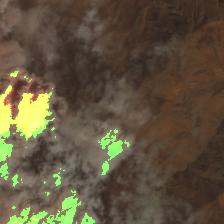landslides: (29, 1, 59, 20), (26, 19, 53, 32), (52, 57, 72, 70), (19, 12, 42, 20), (40, 21, 56, 30), (31, 41, 44, 50), (60, 67, 76, 74)
